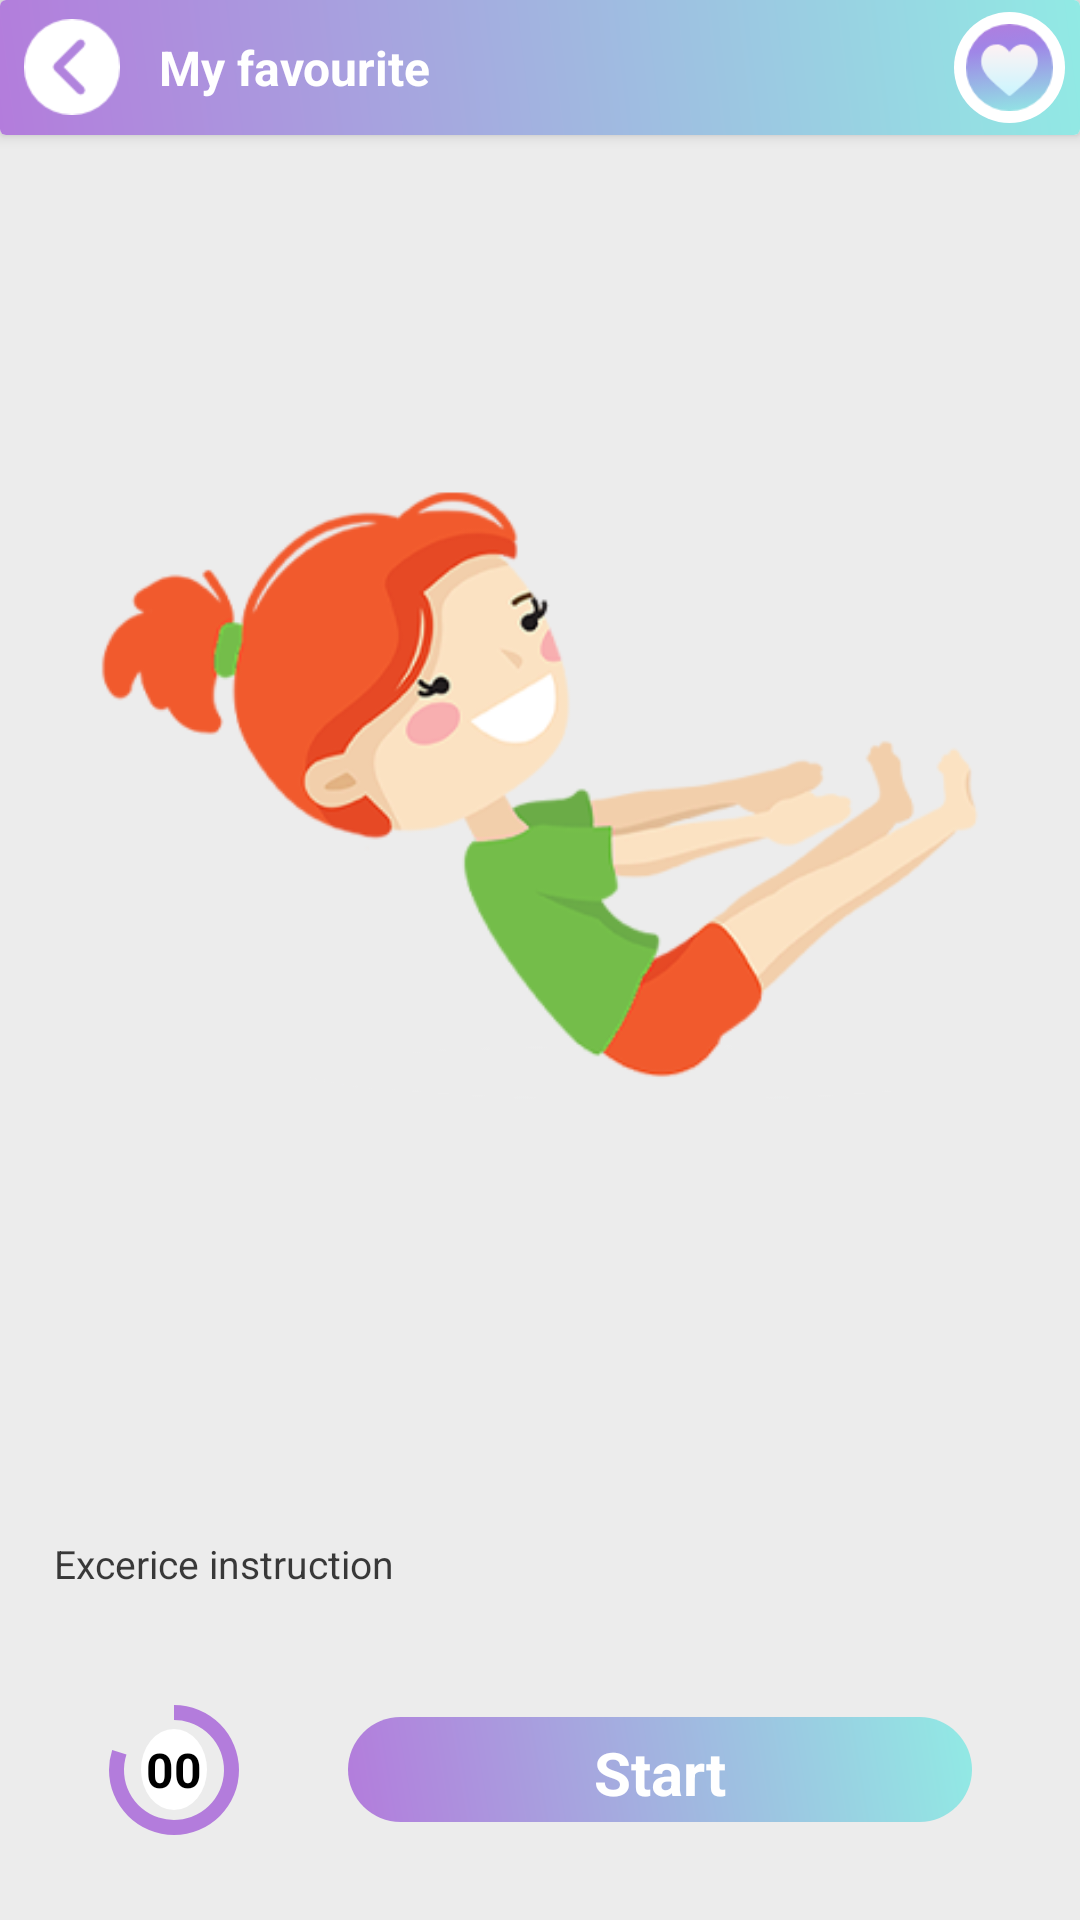

Screen size 1080px×1920px. Icon name, then its box in pixels as (x1, y1, x2, y2):
back arrow: (24, 19, 120, 115)
fav: (957, 15, 1062, 120)
